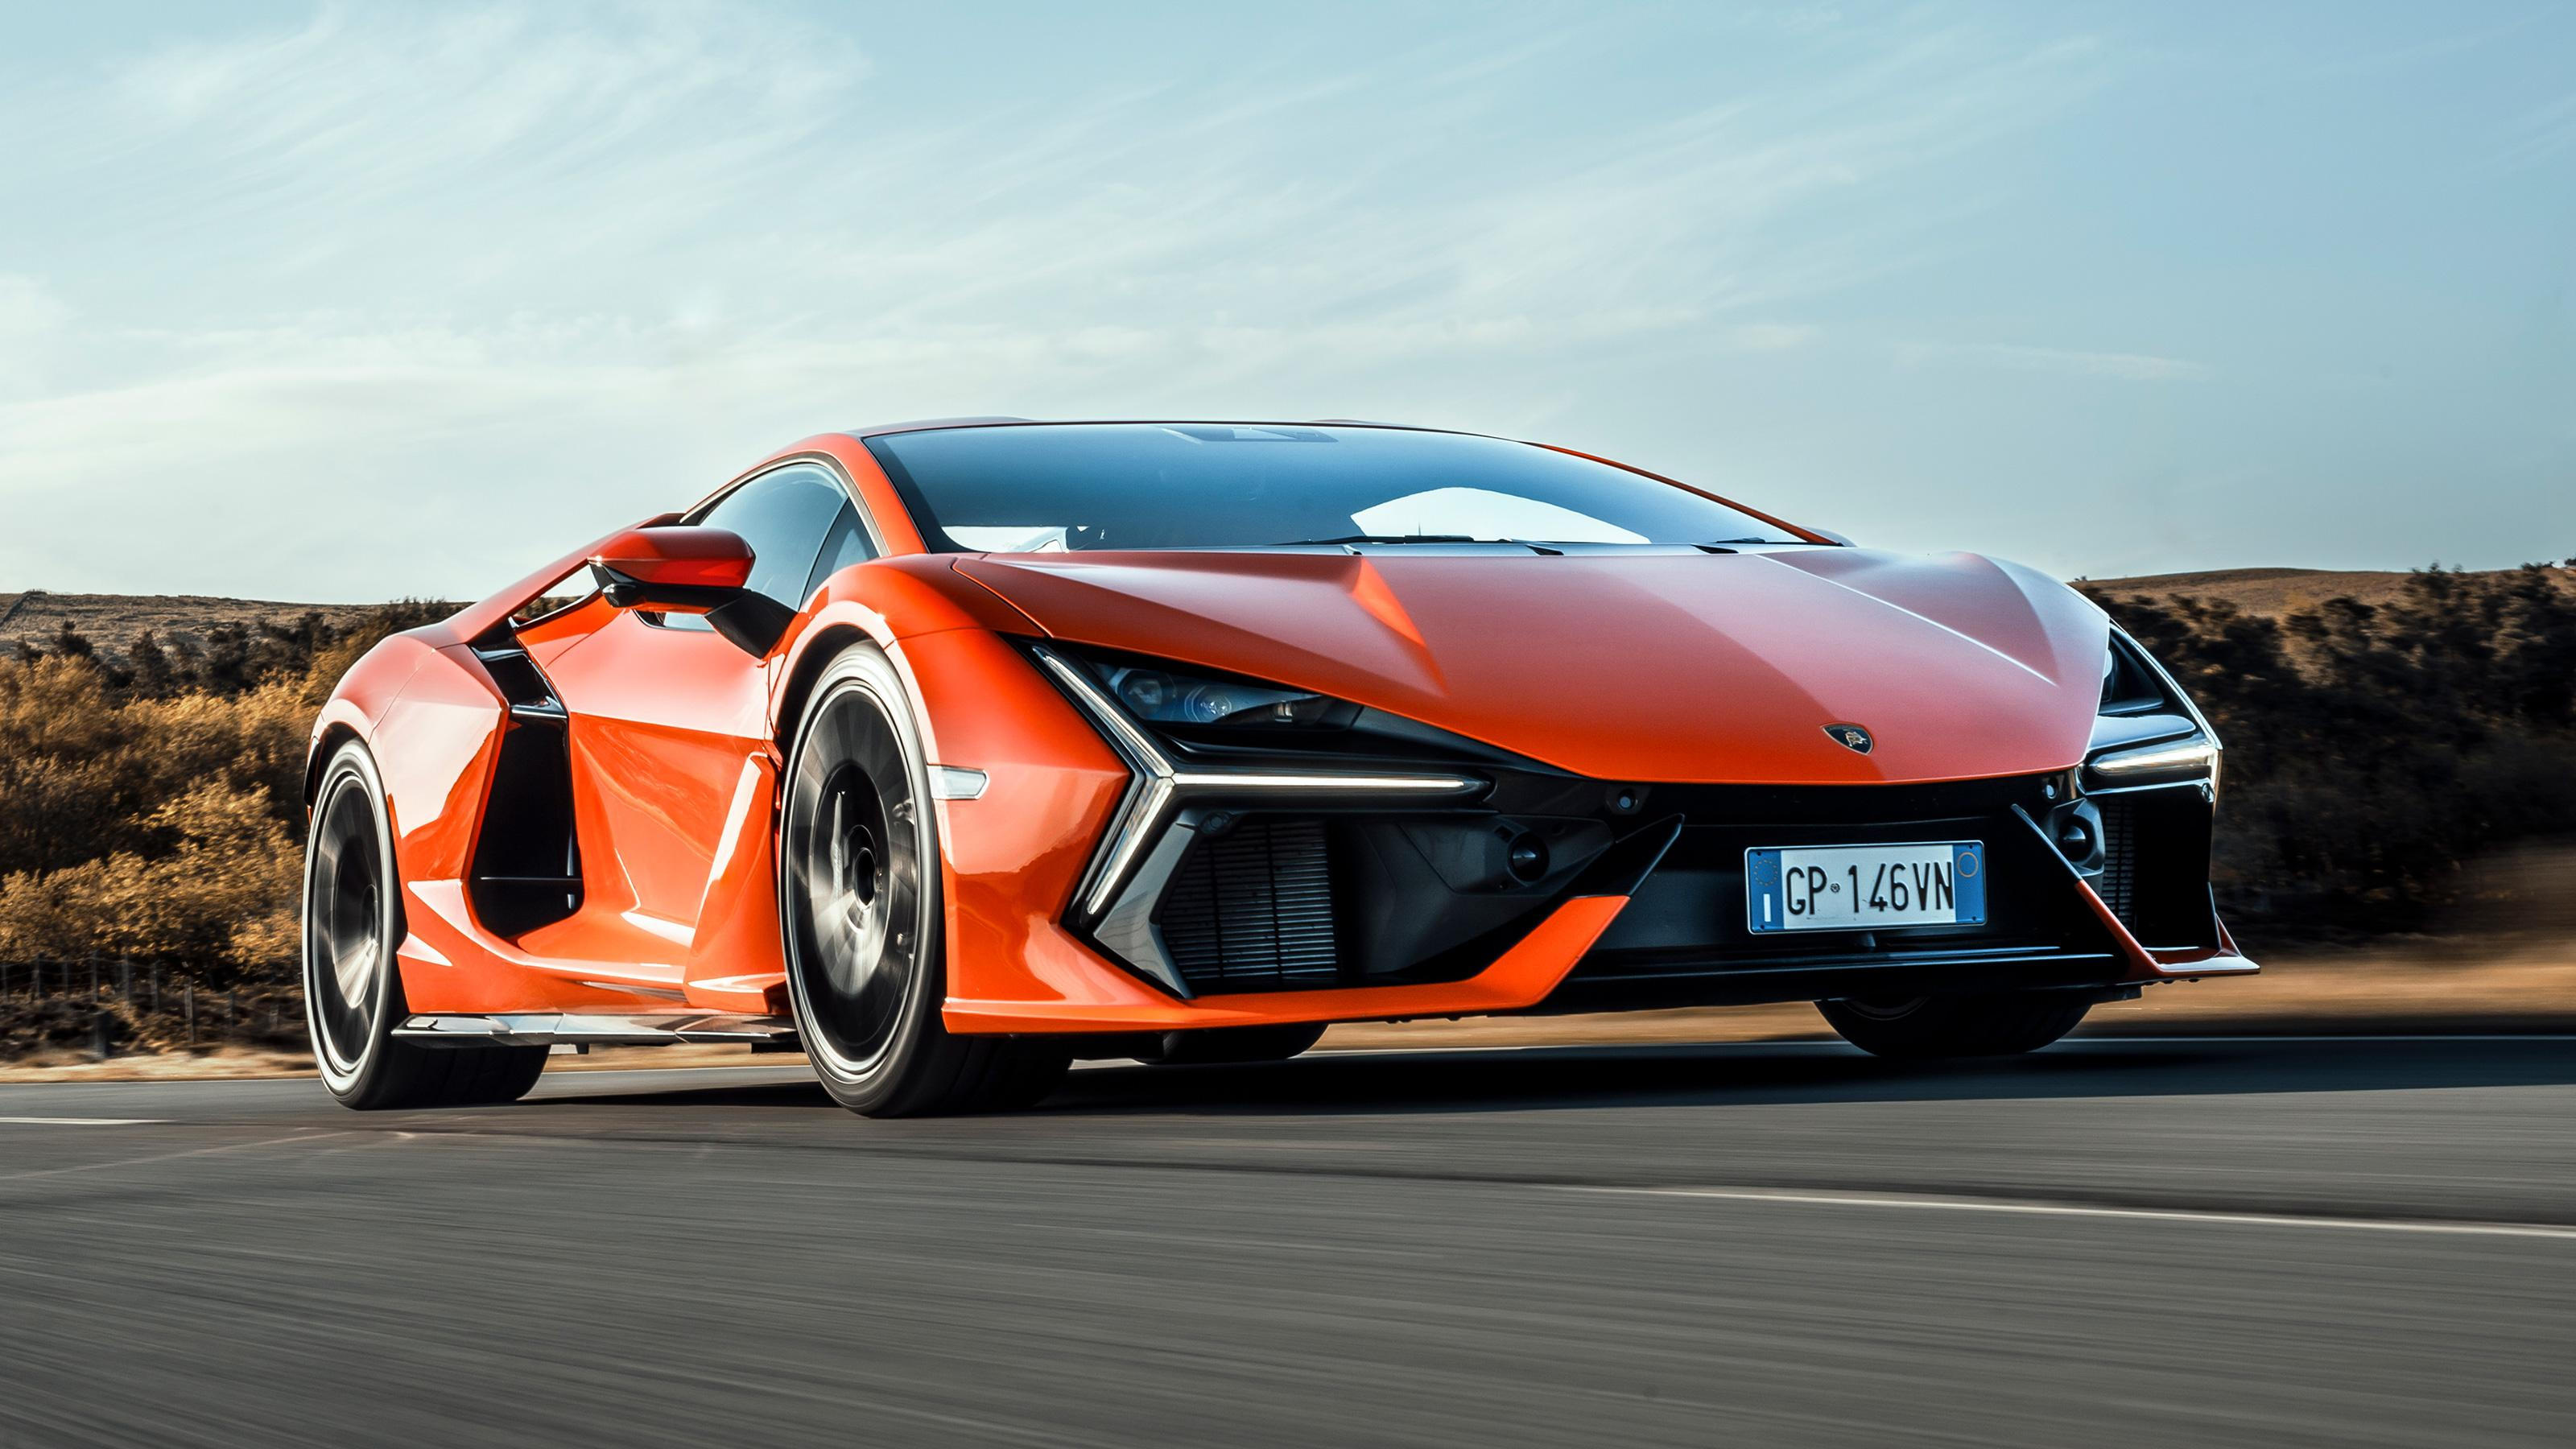car: (262, 384, 2305, 1155)
